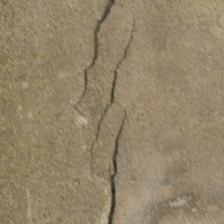Crack: (0, 55, 86, 166), (25, 42, 91, 99), (50, 89, 90, 135)
